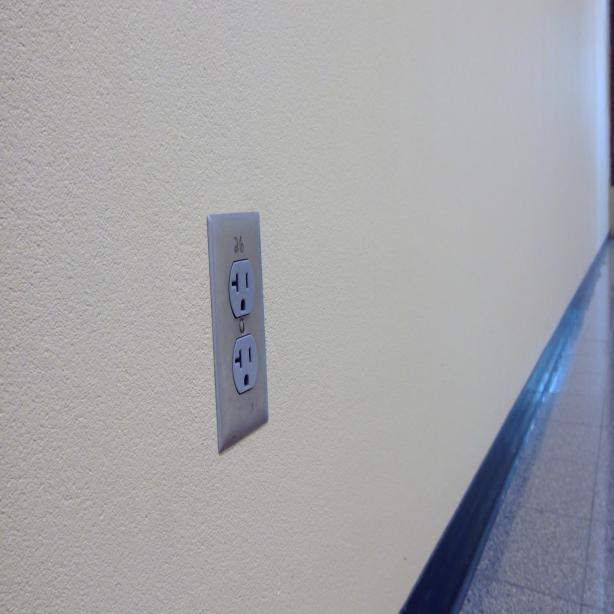typeb: (226, 258, 256, 318), (232, 338, 260, 391)
